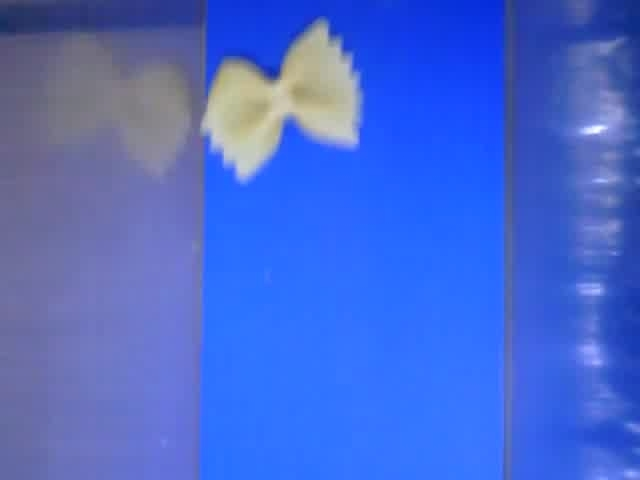farfalle: (201, 16, 364, 184)
